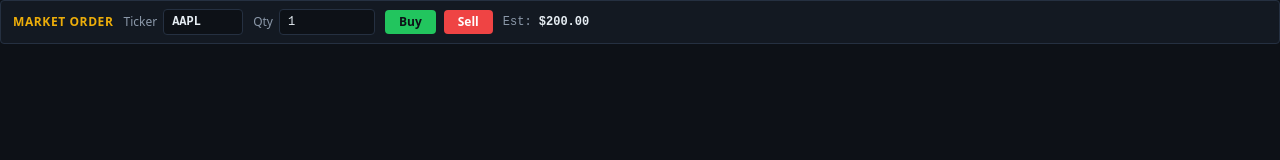
Scenario: TradeBar › submits market buy/sell orders and displays confirmation
Replace the text in the number field named "Trade quantity" with "5" at [327, 22], box [279,9,375,35]
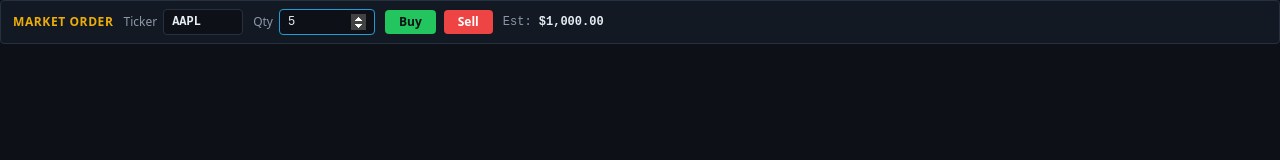
Expected: the text "$1,000.00" is shown, [539,15,604,29]
Click the button "Buy" at [410, 22], box [385,10,436,34]
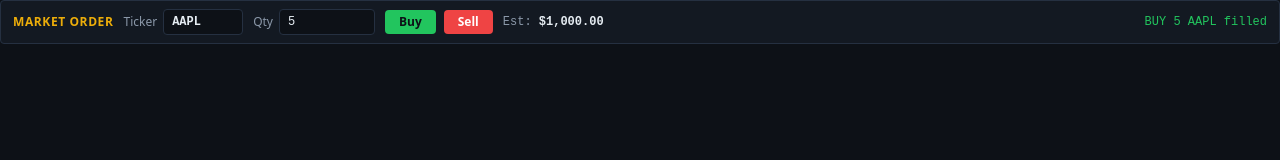
Expected: the text "BUY 5 AAPL filled" is shown, [1145,14,1267,30]
